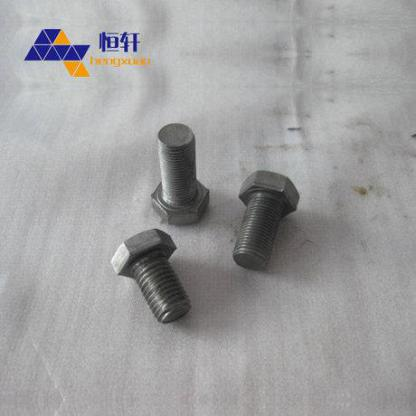FOD: (108, 226, 192, 329), (227, 170, 302, 275), (149, 118, 211, 226)
